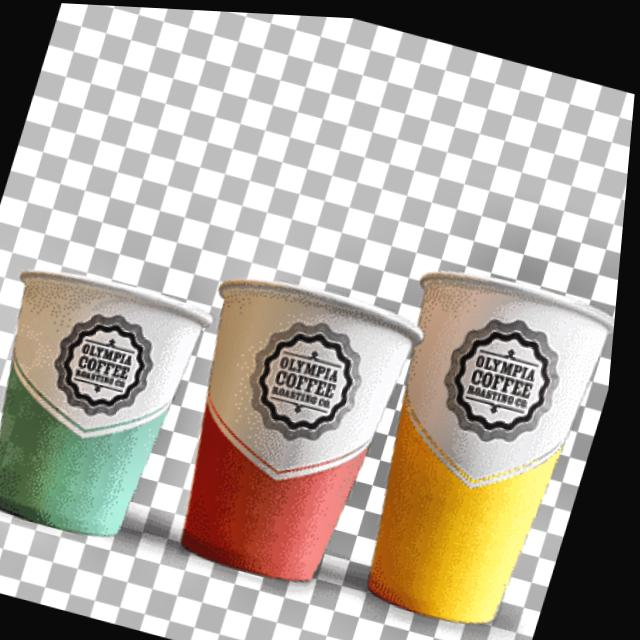Cup: (330, 239, 624, 640), (138, 261, 433, 607), (0, 250, 226, 559)
